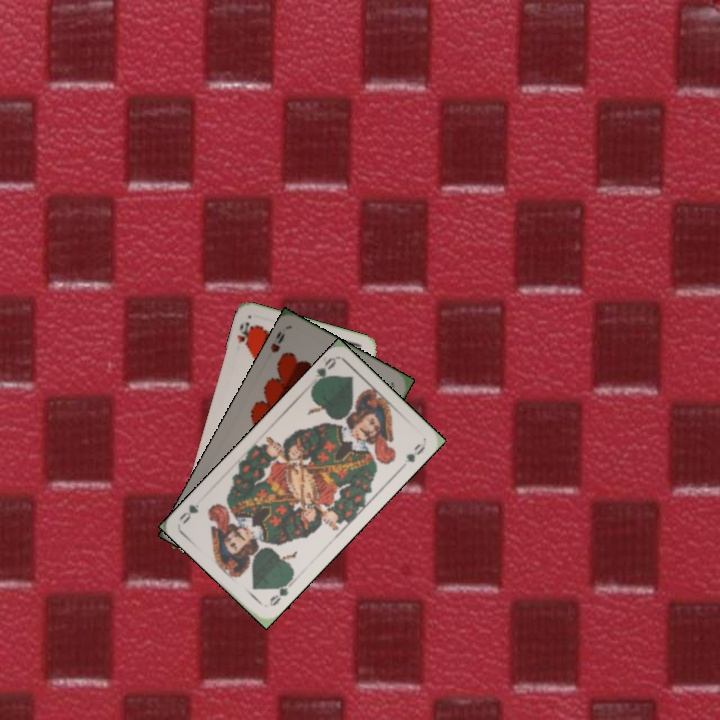GO: (308, 353, 339, 389), (265, 576, 297, 609)
H9: (266, 327, 288, 355)
HO: (233, 318, 255, 351)
